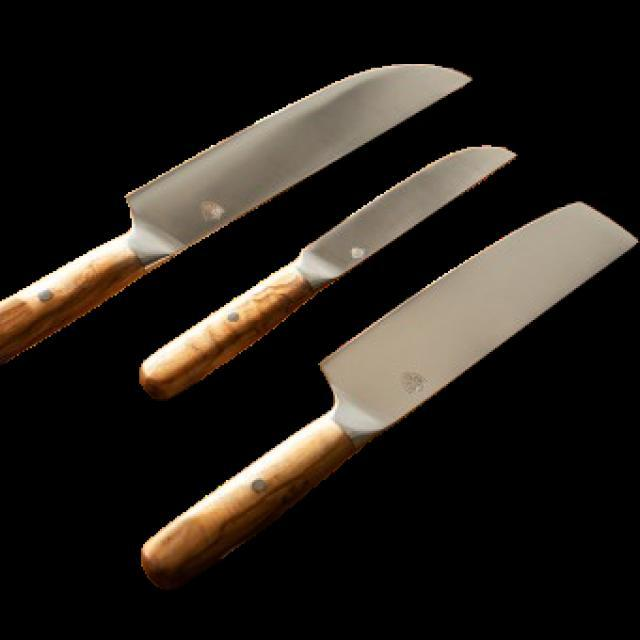knife: (143, 193, 638, 602), (127, 140, 522, 409)
